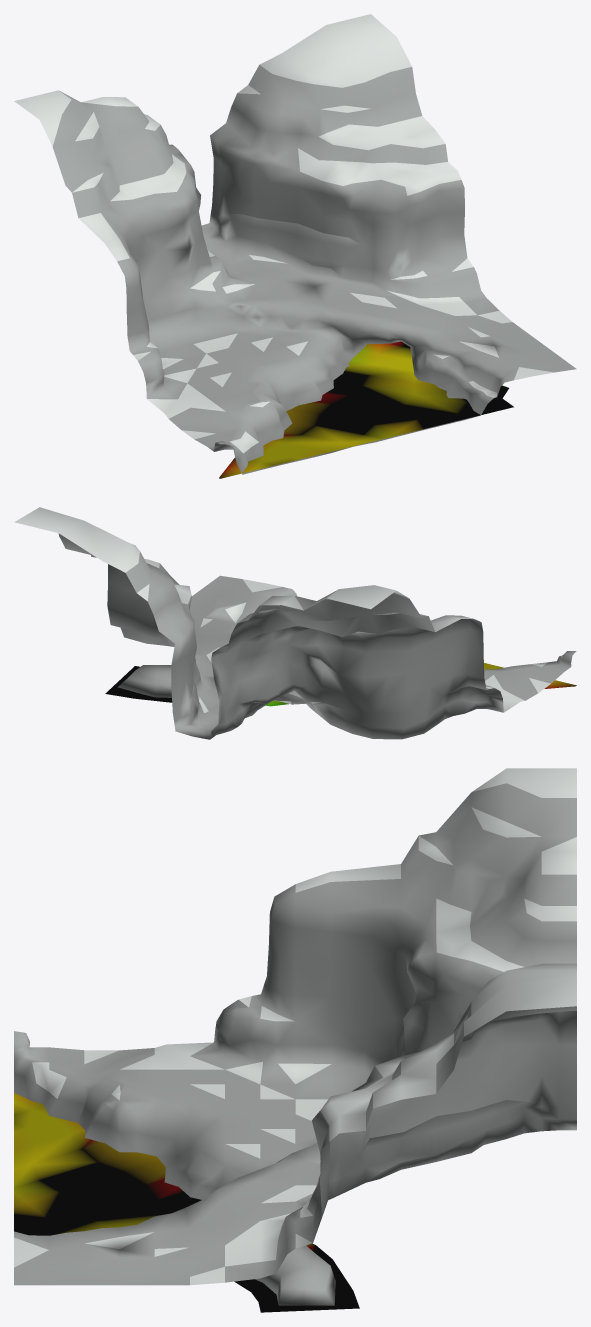
The picture shows the model from 3 angles, top to bottom: view 1: azimuth 30°, elevation 25°; view 2: azimuth 150°, elevation 25°; view 3: azimuth 270°, elevation 25°; orthographic projection. The views are drawn at different scales.
Parts seen in each view (by area): view 1: G:\FFXIV-MapTools\exports\f1t2\bg\ffxiv\fst_f1\twn\f1t2\bgpl (×12); view 2: G:\FFXIV-MapTools\exports\f1t2\bg\ffxiv\fst_f1\twn\f1t2\bgpl (×10); view 3: G:\FFXIV-MapTools\exports\f1t2\bg\ffxiv\fst_f1\twn\f1t2\bgpl (×12).
Part boxes in pixels (box(x1,y1,x2,y2)): G:\FFXIV-MapTools\exports\f1t2\bg\ffxiv\fst_f1\twn\f1t2\bgpl (×12): box(14, 14, 576, 478); G:\FFXIV-MapTools\exports\f1t2\bg\ffxiv\fst_f1\twn\f1t2\bgpl (×10): box(14, 507, 576, 739); G:\FFXIV-MapTools\exports\f1t2\bg\ffxiv\fst_f1\twn\f1t2\bgpl (×12): box(14, 768, 576, 1312).
Size of the model in its own units: 64 by 39.15 by 64.
